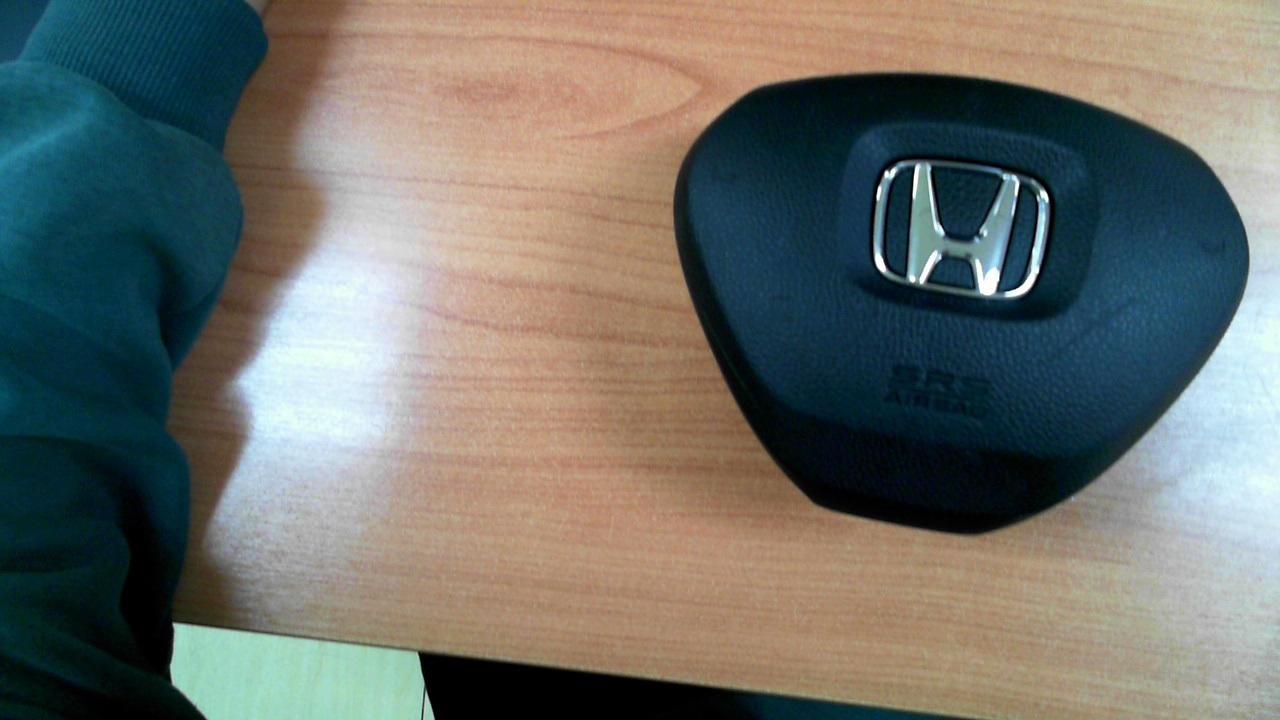Airbag: (672, 73, 1250, 535)
Honda: (872, 159, 1052, 298)
